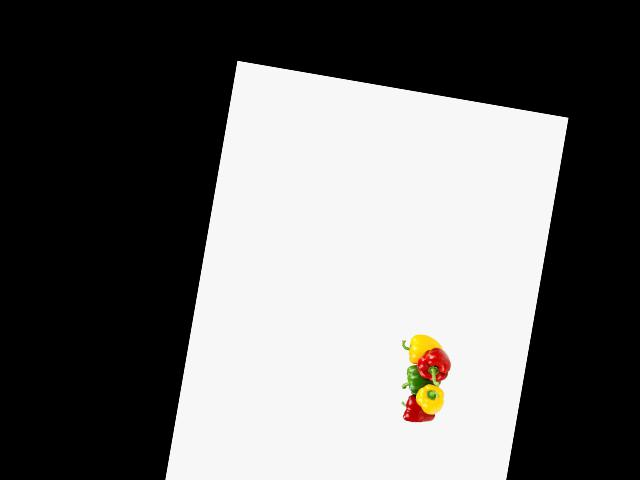bell_pepper: (397, 393, 433, 426)
